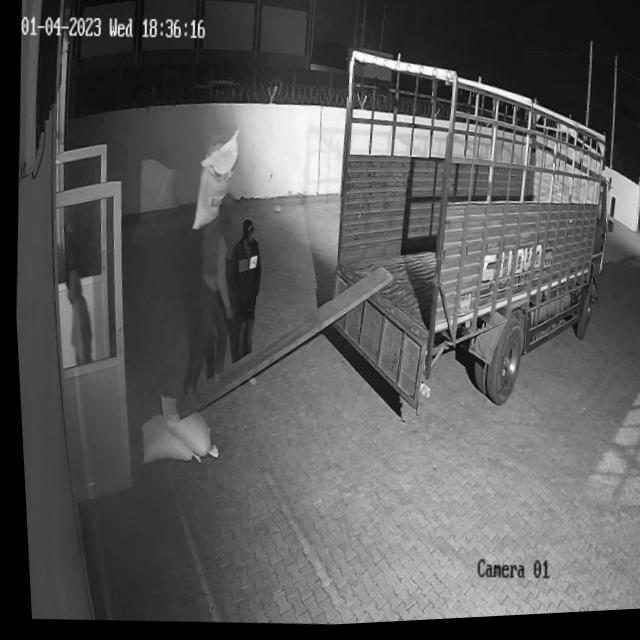sack: (186, 129, 240, 233), (151, 391, 217, 462), (133, 411, 197, 467)
